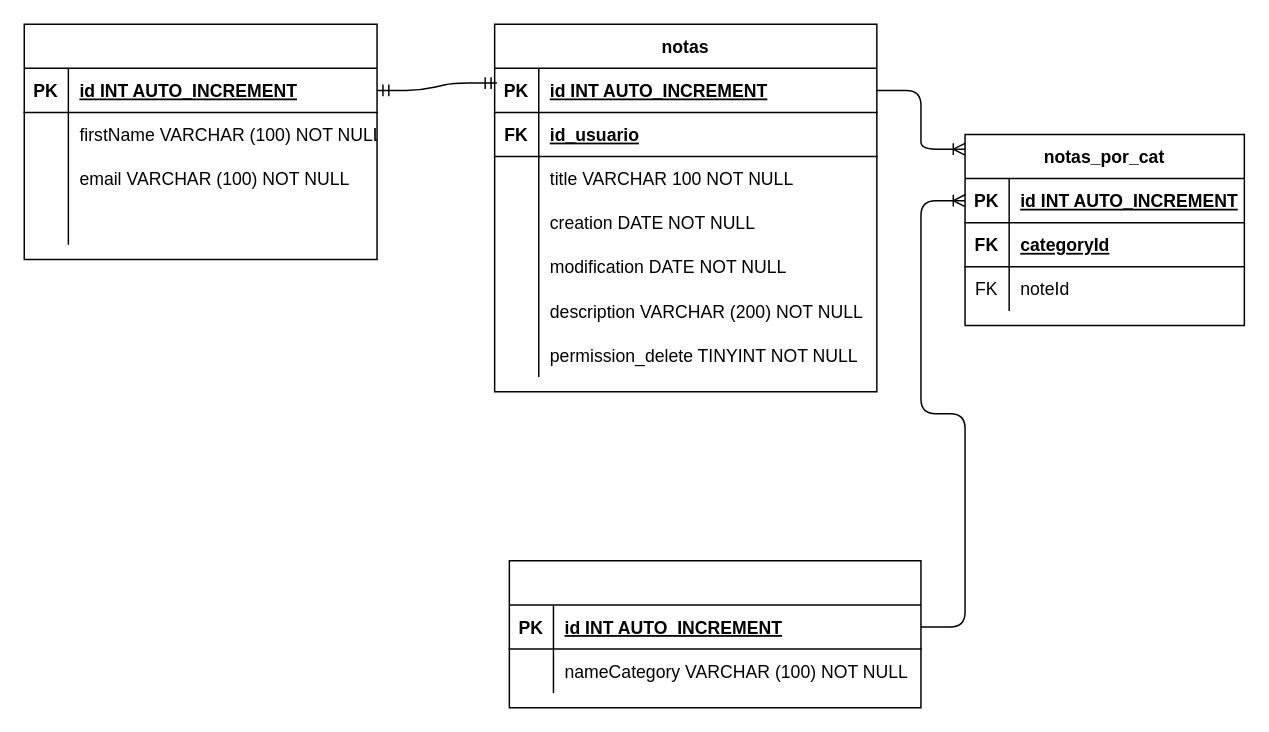
The diagram is 1269 pixels wide and 732 high, and some of its shapes have lost their labels. Here are the shapes that lost their labels. From the top down, the box of each, then its label:
(23, 23, 377, 259): usuarios
(508, 559, 921, 708): categoria
